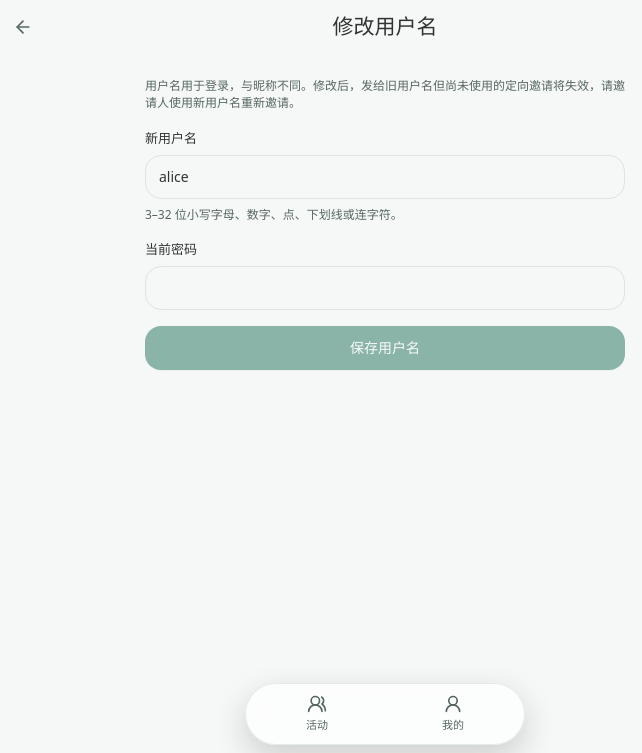
Test: 修改用户名 › 失败保留草稿，重试成功清空密码并显示服务端规范化后的用户名
Replace the text in the field labelled "新用户名" with " Bob ": {"x": 385, "y": 177} [145,155,625,199]
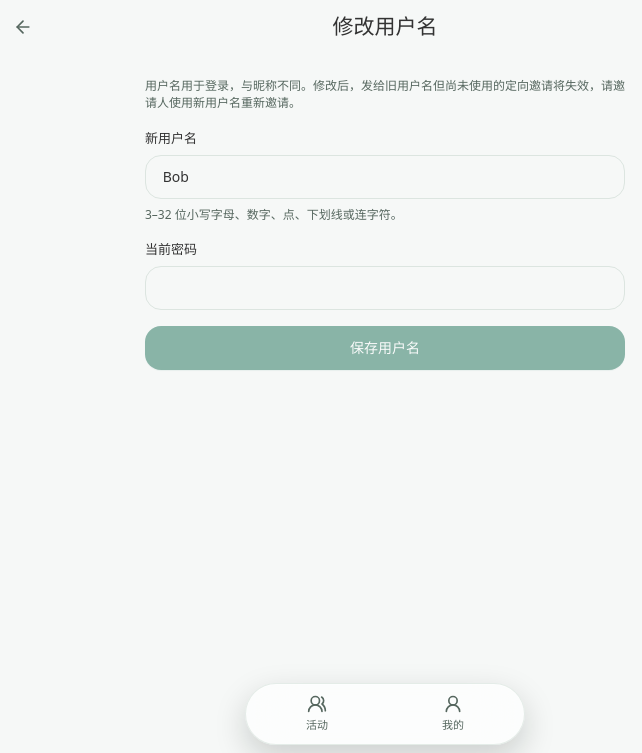
In the password field labelled "当前密码": {"x": 385, "y": 288} [145,266,625,310], type "wrong-password"
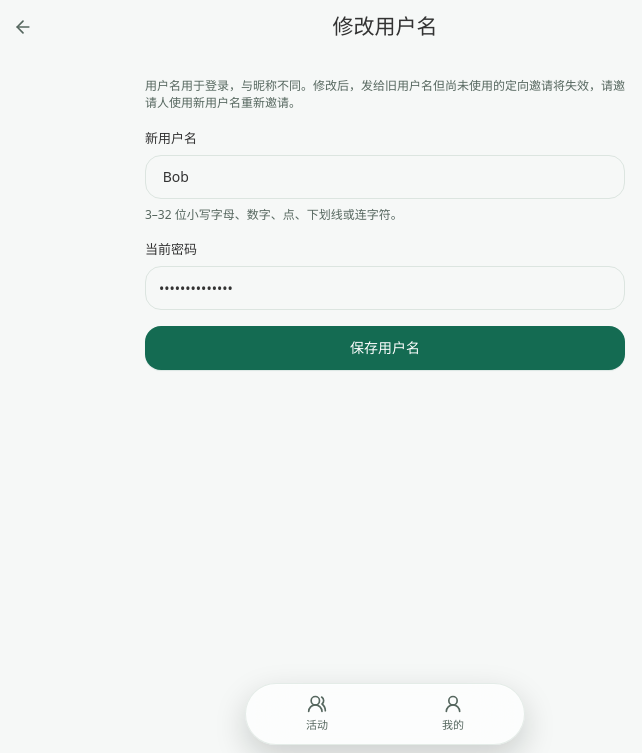
Click the button "保存用户名": {"x": 385, "y": 348} [145,326,625,370]
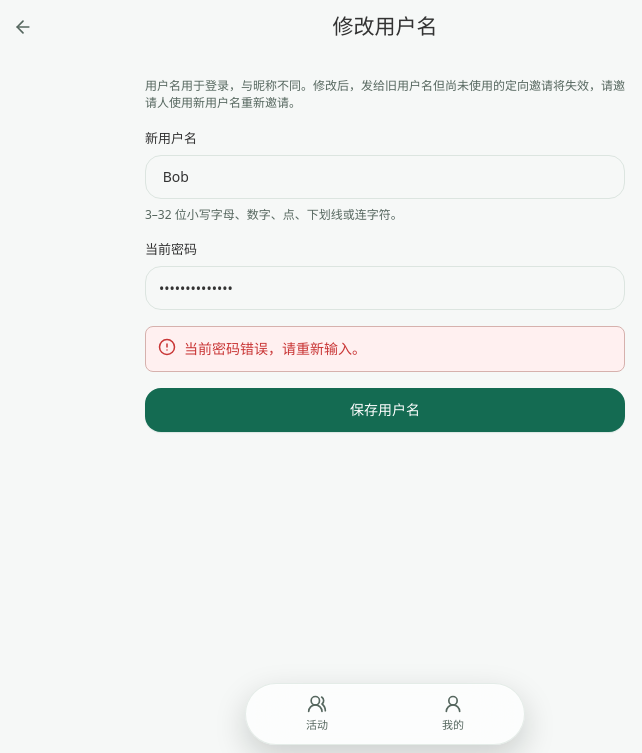
Expected: the text "当前密码错误，请重新输入。" is shown, [184,338,366,360]
In the password field labelled "当前密码": {"x": 385, "y": 288} [145,266,625,310], type "correct-password"
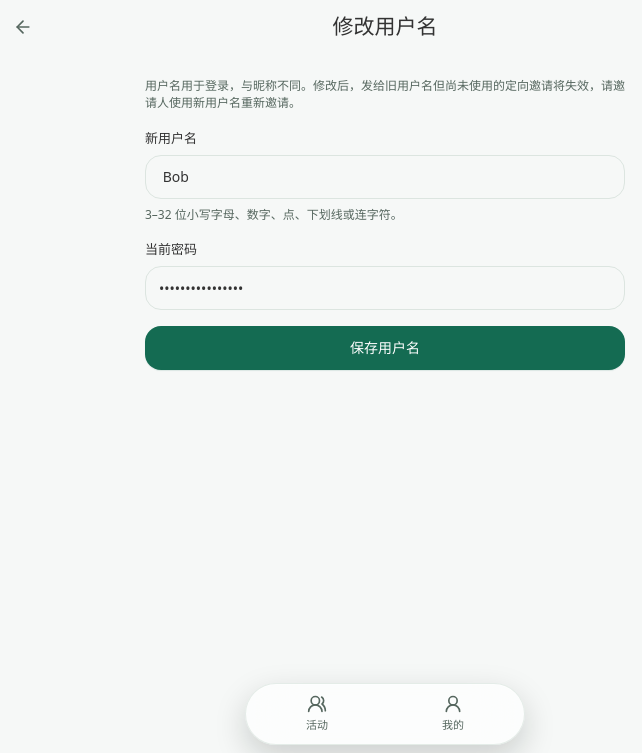
Click the button "保存用户名": {"x": 385, "y": 348} [145,326,625,370]
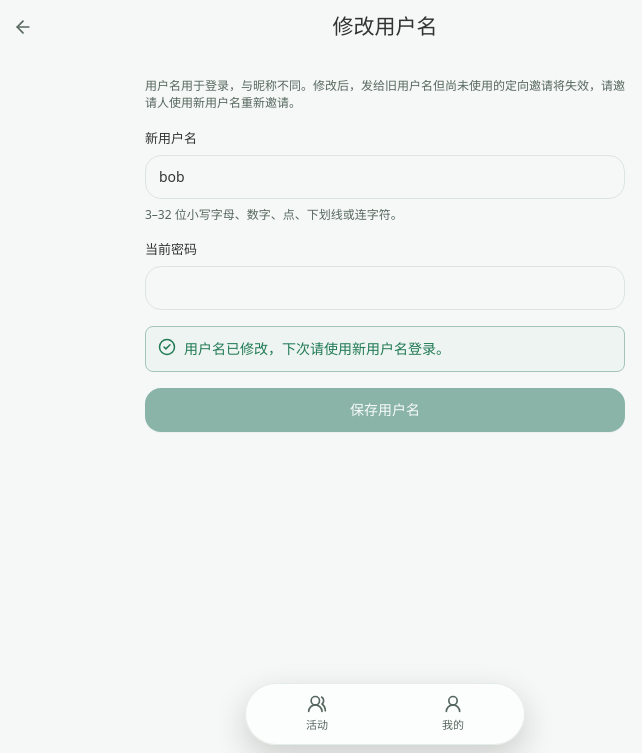
Expected: the password field labelled "当前密码" is empty, [145,266,625,310]
Expected: the message shows "用户名已修改", [184,340,450,358]
